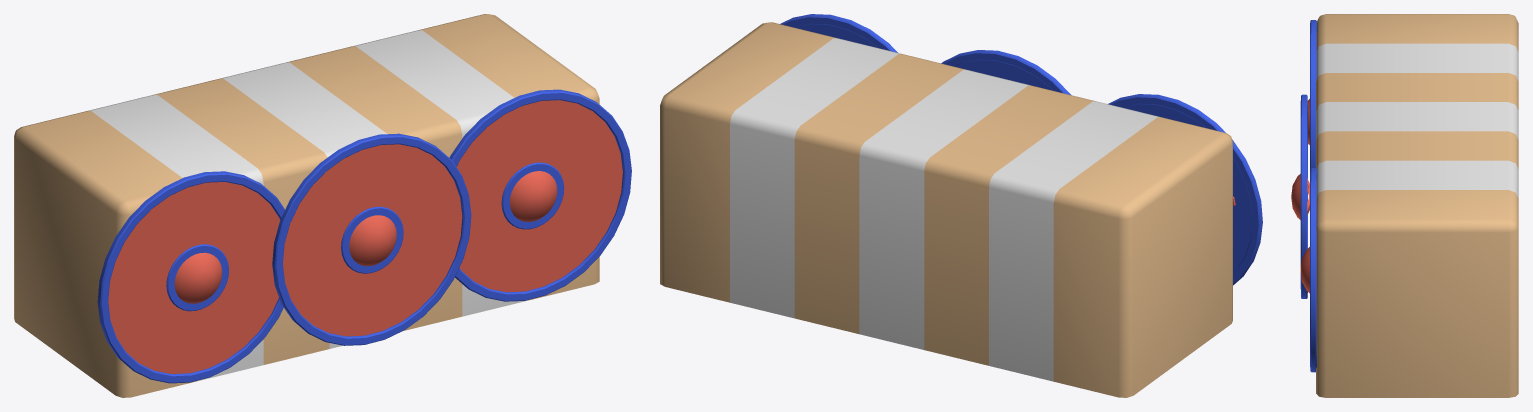
File: shild barrier.fbx
3 renders of one model, left to right at view 1: azimuth 30°, elevation 25°; view 2: azimuth 150°, elevation 25°; view 3: azimuth 270°, elevation 25°, orthographic. The views are drawn at different scales.
Visible parts, largest first — view 1: barrier; view 2: barrier; view 3: barrier.
Boxes of the visible parts, bbox=[...] form: barrier: bbox=[14, 14, 631, 397]; barrier: bbox=[660, 14, 1262, 397]; barrier: bbox=[1291, 14, 1518, 397].
Bounding box in the file's own units: 549 × 205 × 225.
